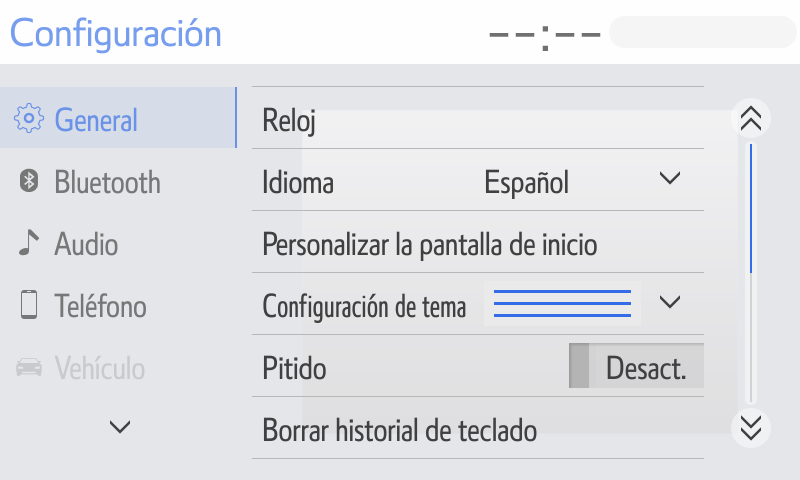touchPart: (243, 267, 712, 342), (241, 394, 712, 468), (251, 79, 709, 155), (247, 207, 711, 280), (247, 147, 708, 218), (243, 334, 707, 401), (18, 283, 162, 328), (20, 163, 164, 200), (15, 226, 122, 263), (725, 404, 778, 450), (729, 95, 771, 138), (96, 408, 145, 443)
untouchPart: (1, 84, 239, 156), (483, 17, 795, 55), (13, 14, 224, 53), (13, 345, 172, 388)
